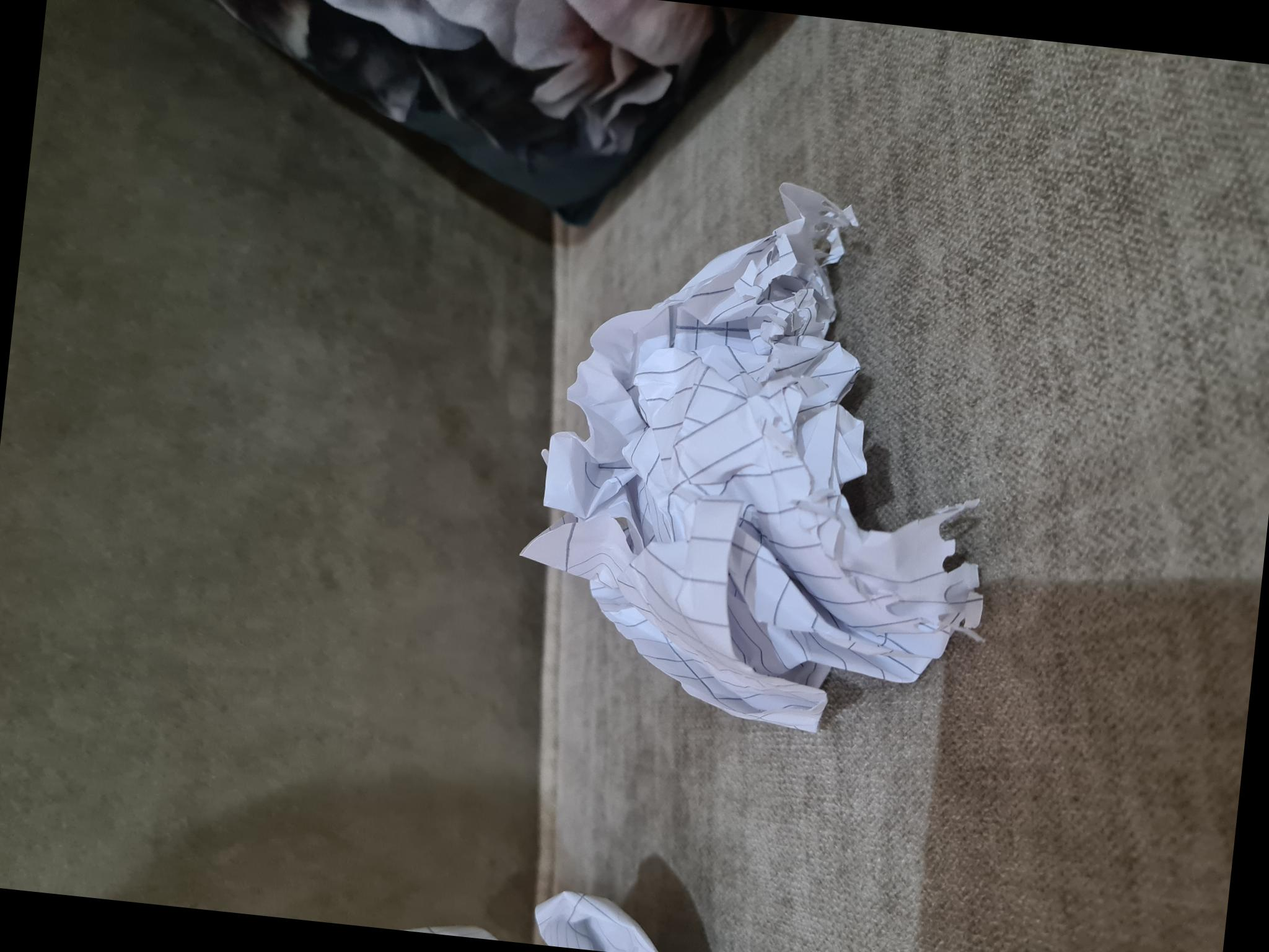Kertas: (213, 529, 737, 930)
